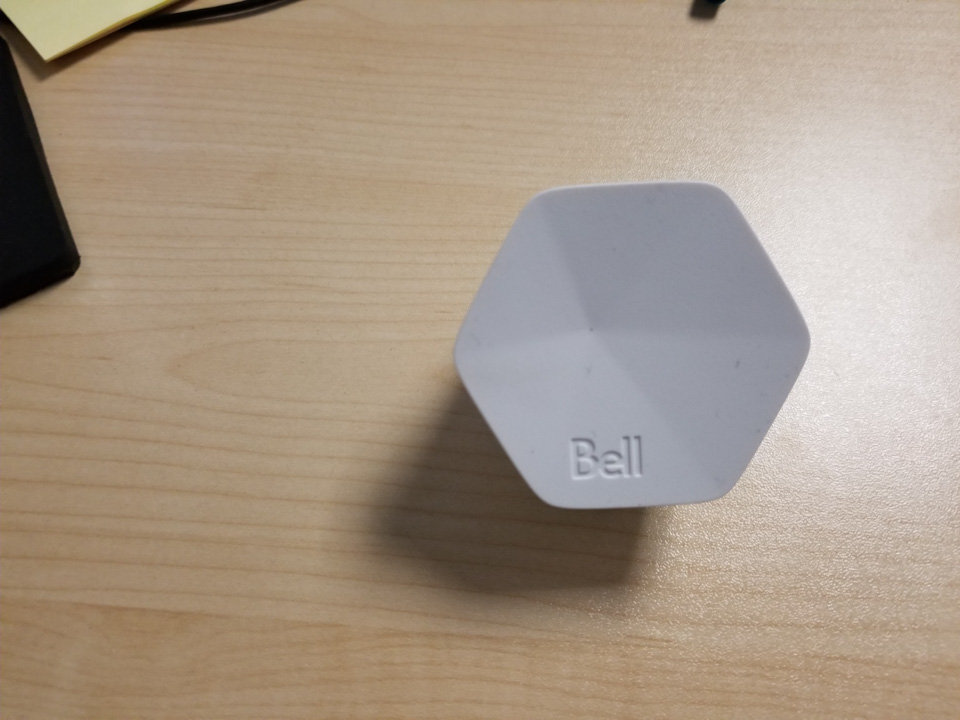pod: (447, 174, 820, 515)
